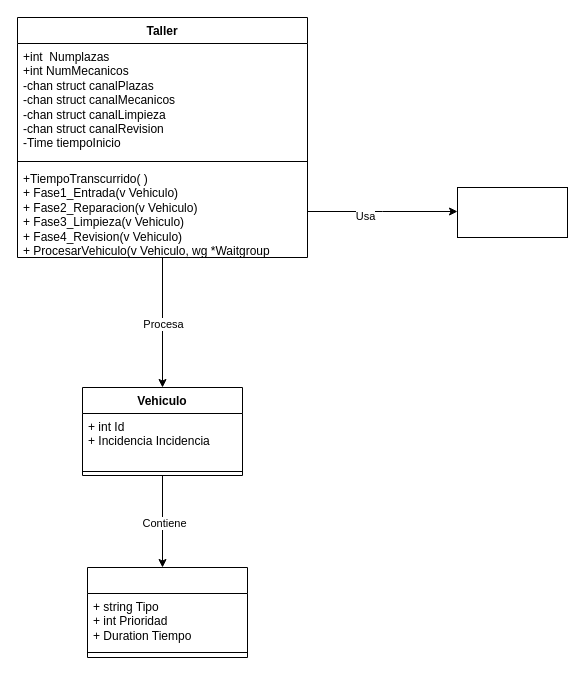
Image size: 585x675. Some labels were removed from this diagram. Each missing label, with the box of its shape:
Incidencia: (86, 566, 248, 658)
«sync» Waitgroup: (456, 186, 568, 238)
